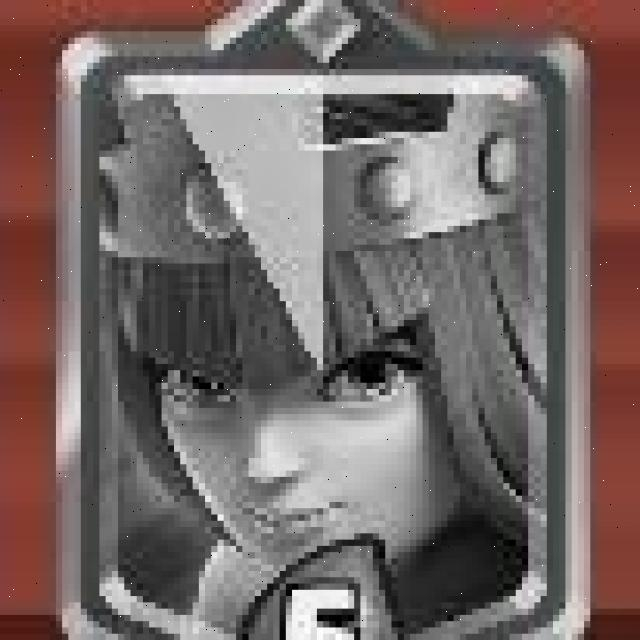Archer_Queen: (43, 5, 596, 634)
